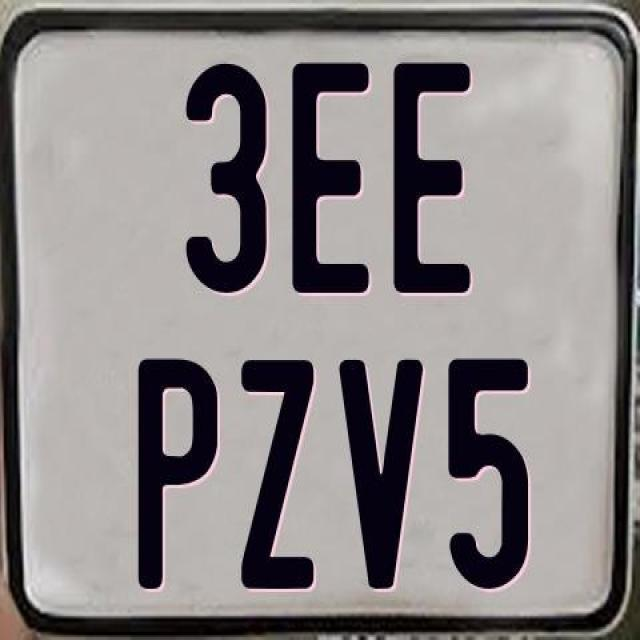license-plate: (6, 2, 632, 640)
